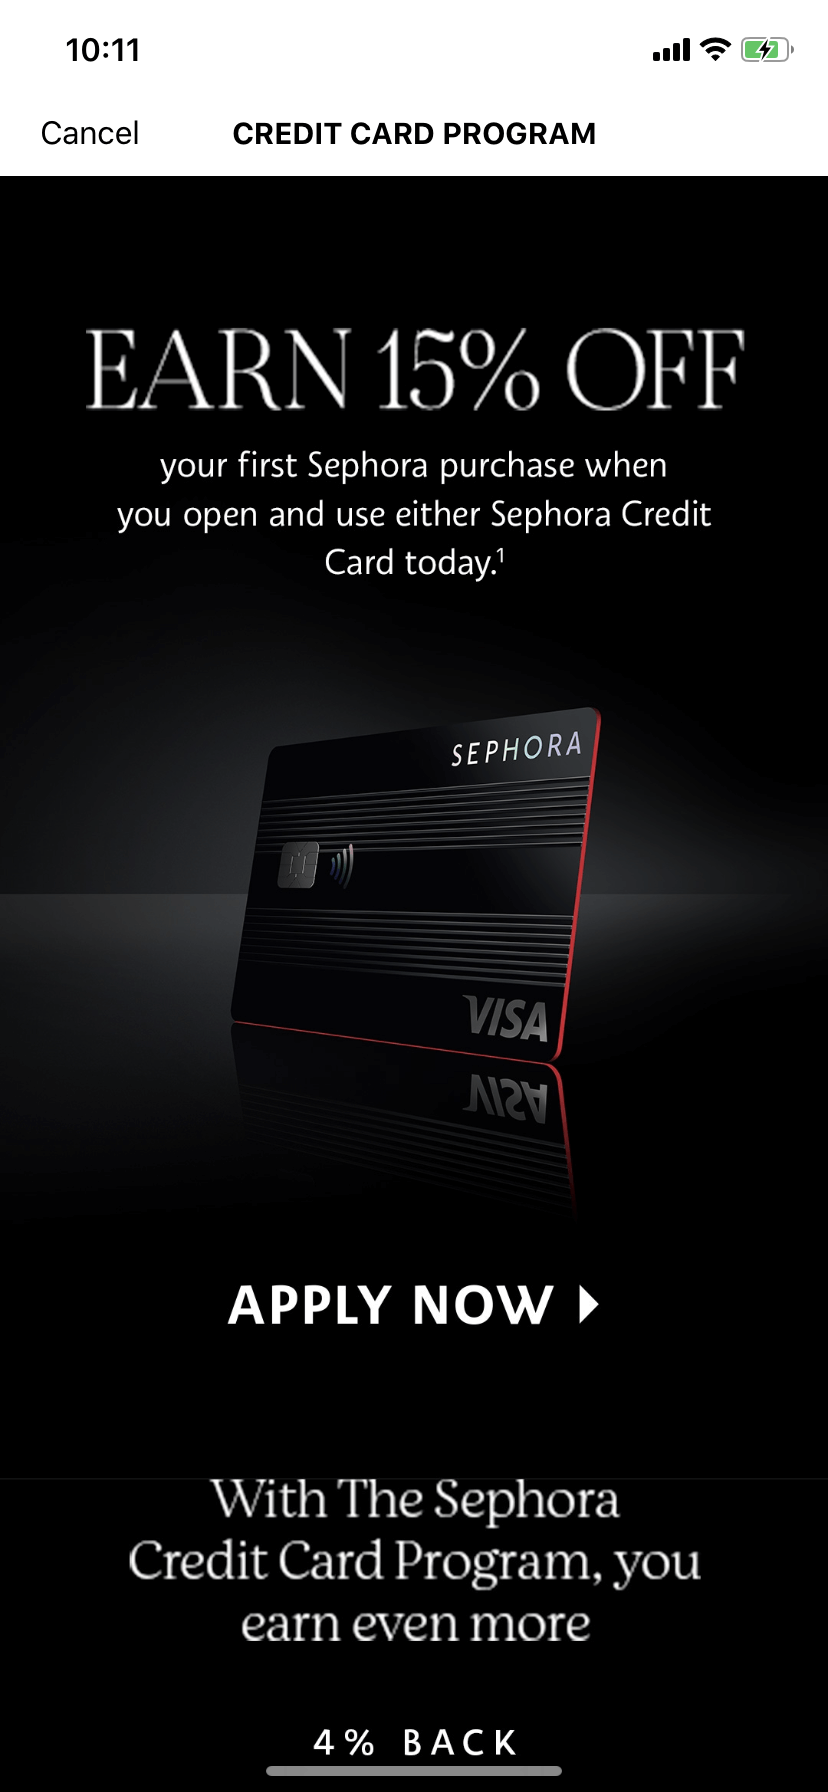Buttons: (198, 1243, 630, 1365), (1, 85, 180, 178)
